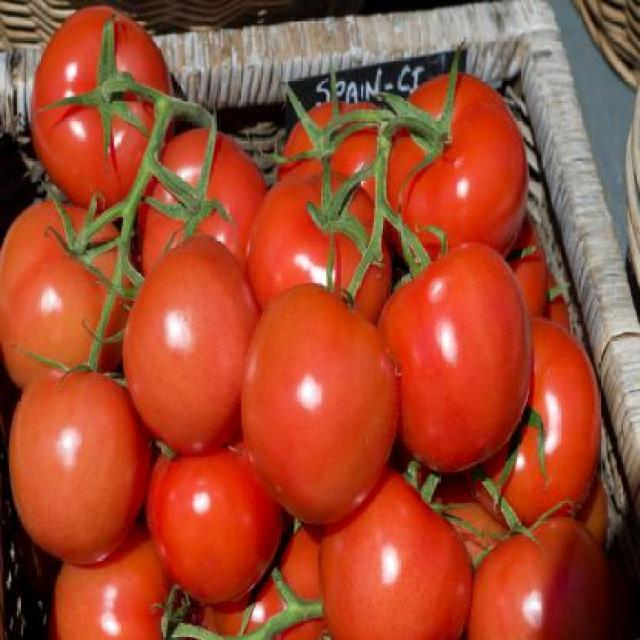Tomato: (0, 2, 614, 640), (384, 238, 532, 476), (314, 463, 474, 640)
